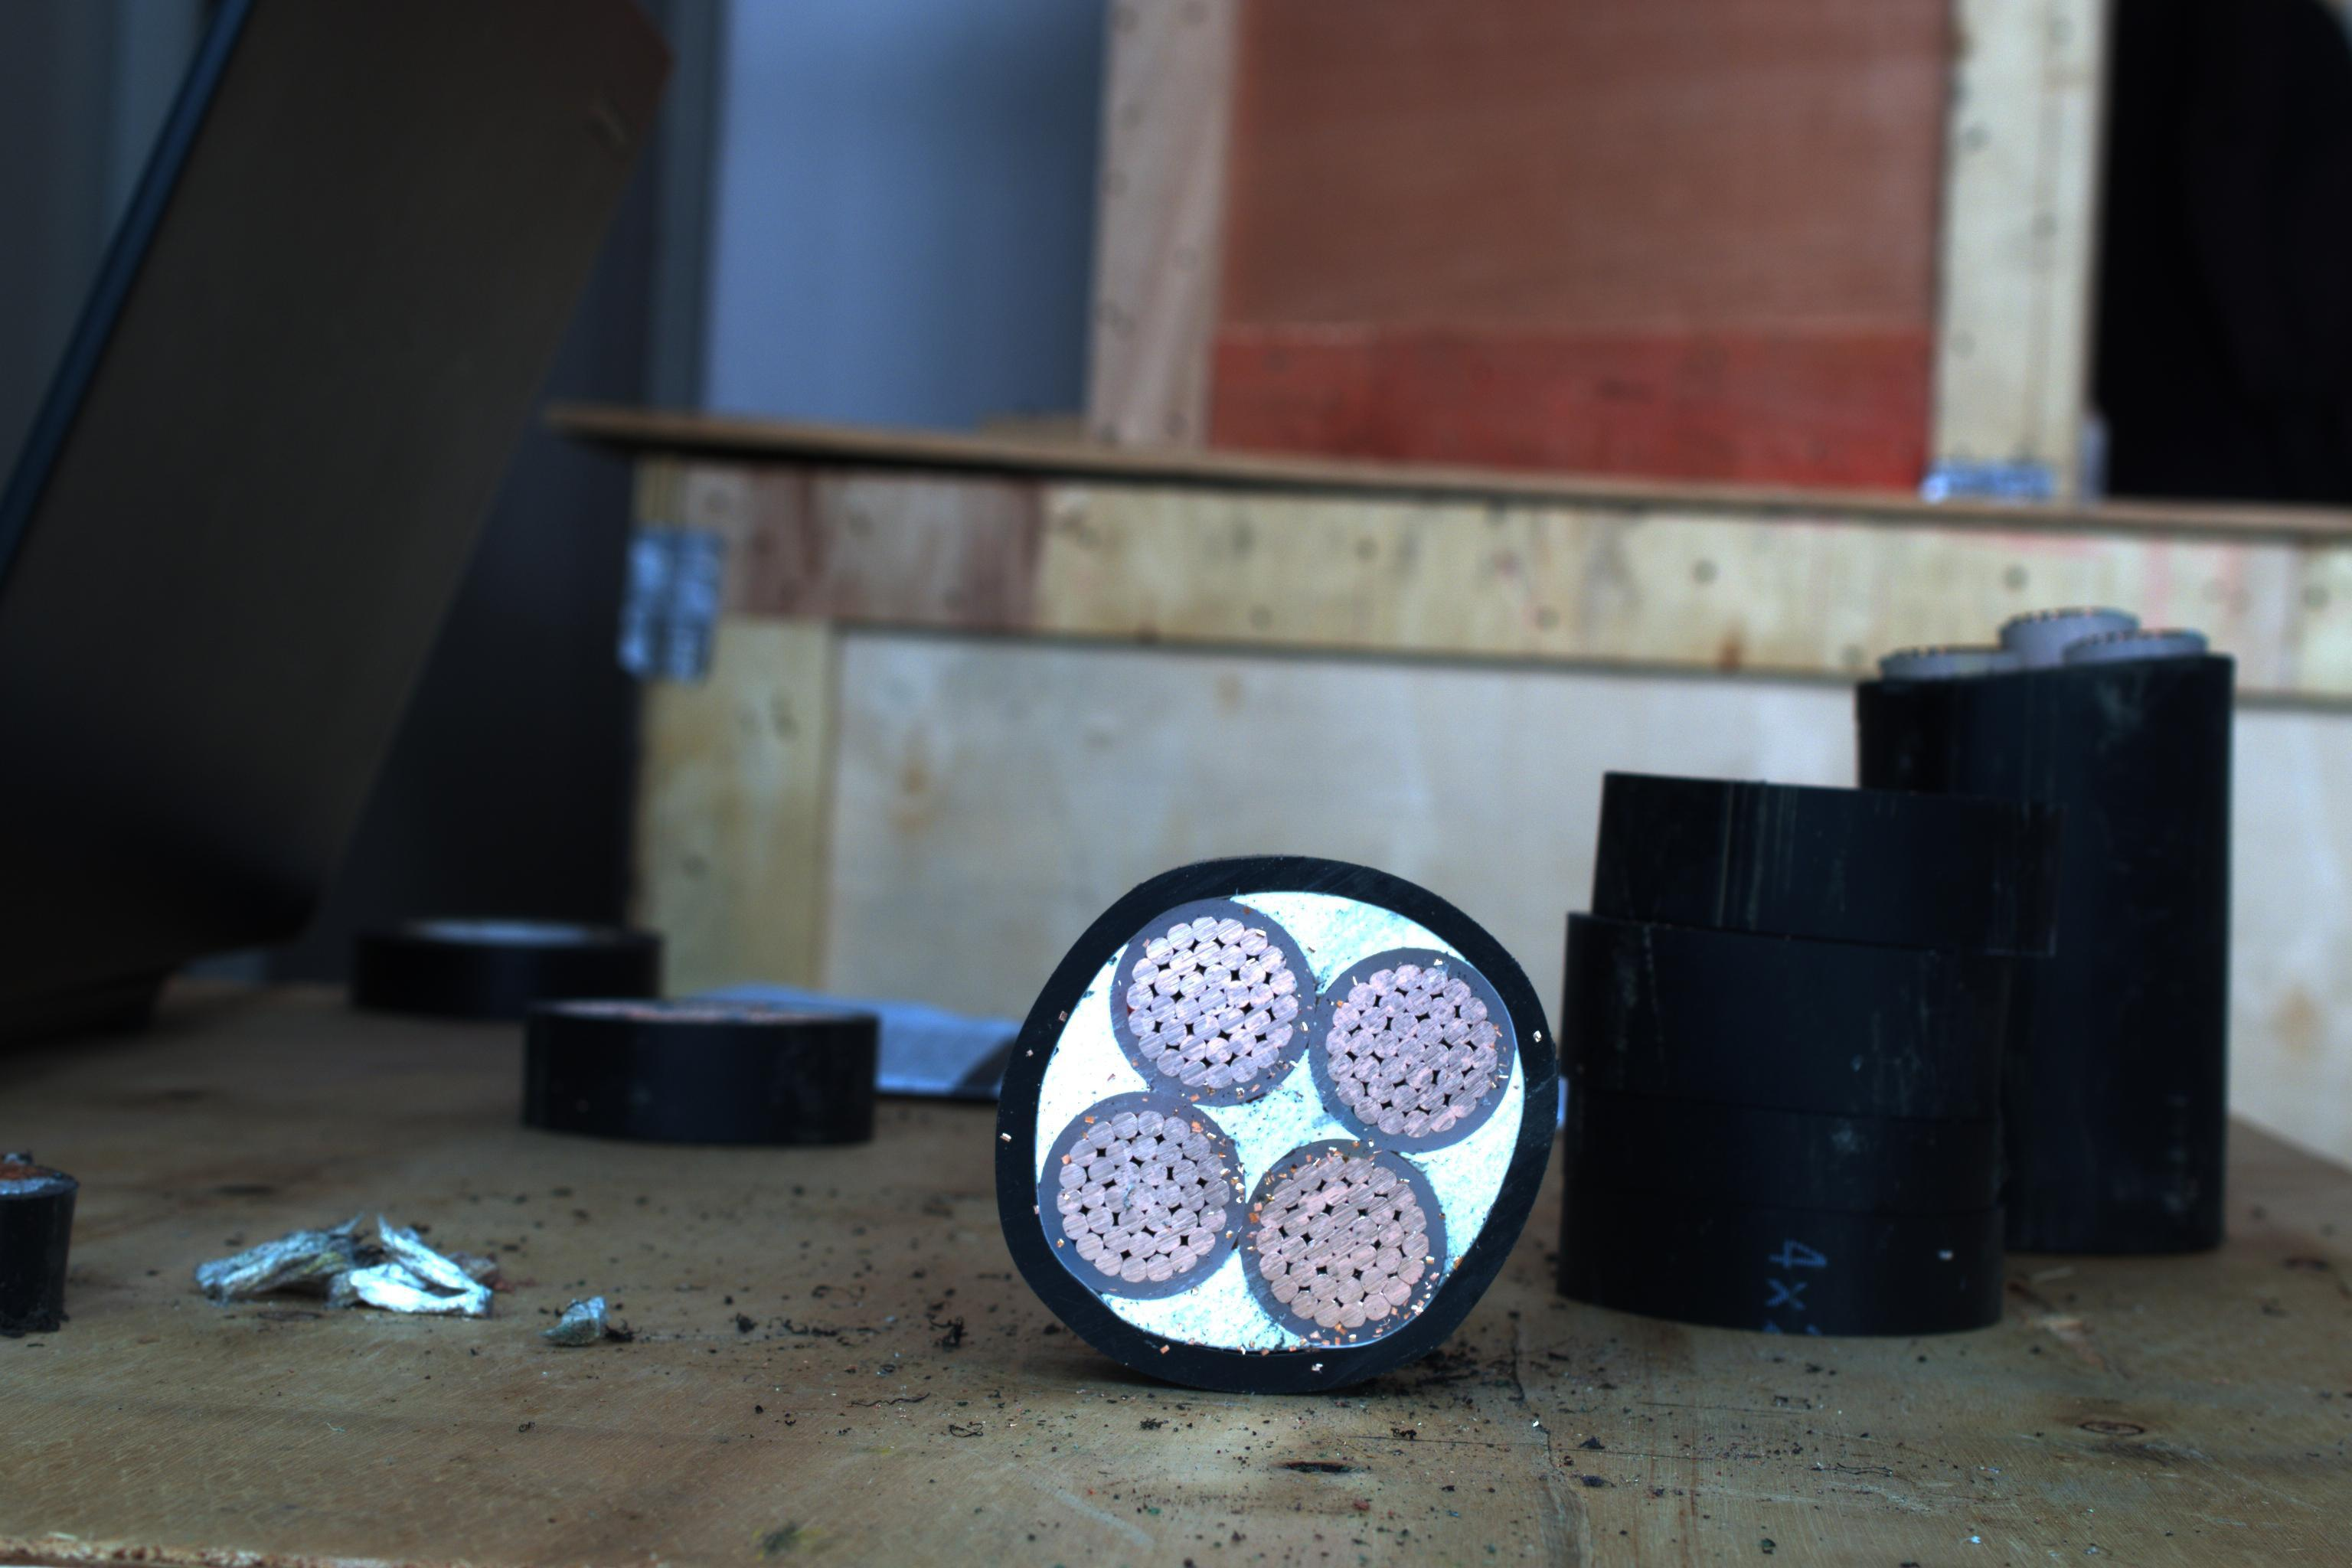YJV_0.6_1kV_4x240: (982, 859, 1575, 1374)
